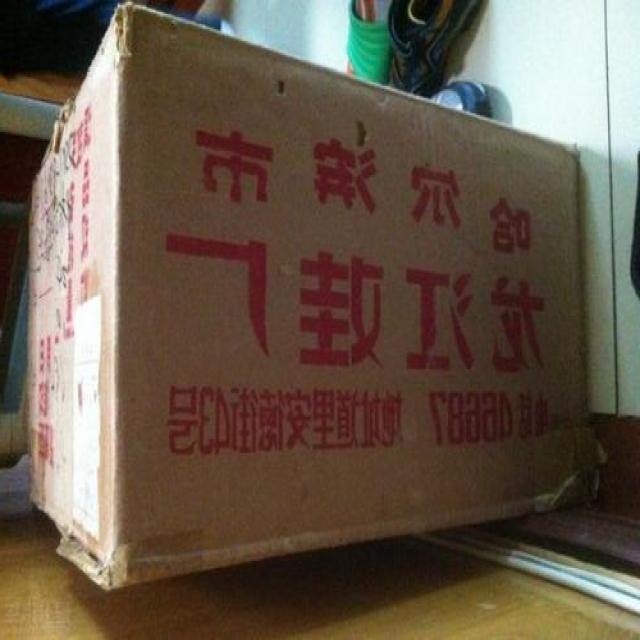cardboard: (26, 6, 586, 582)
